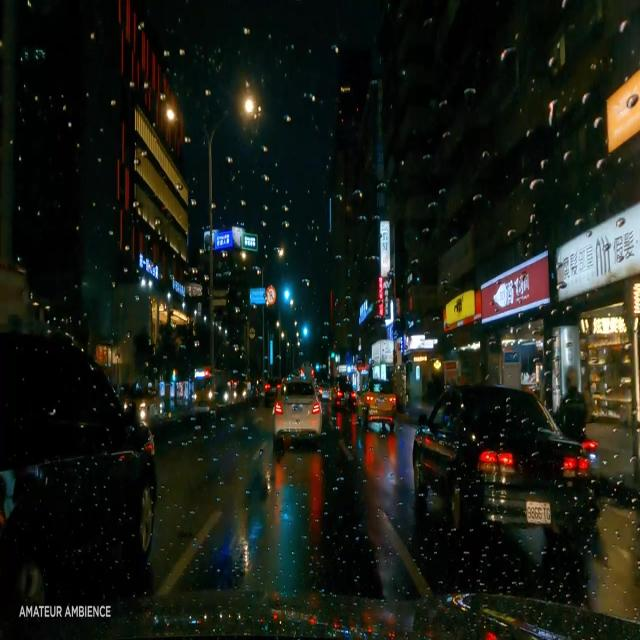Car: (10, 321, 155, 622), (410, 380, 581, 546), (269, 380, 322, 443), (356, 376, 395, 433), (329, 380, 354, 408)
